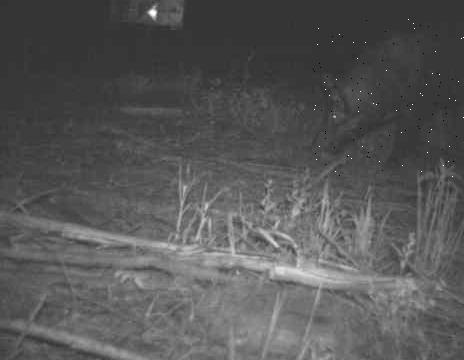Hog: (313, 19, 464, 177)
